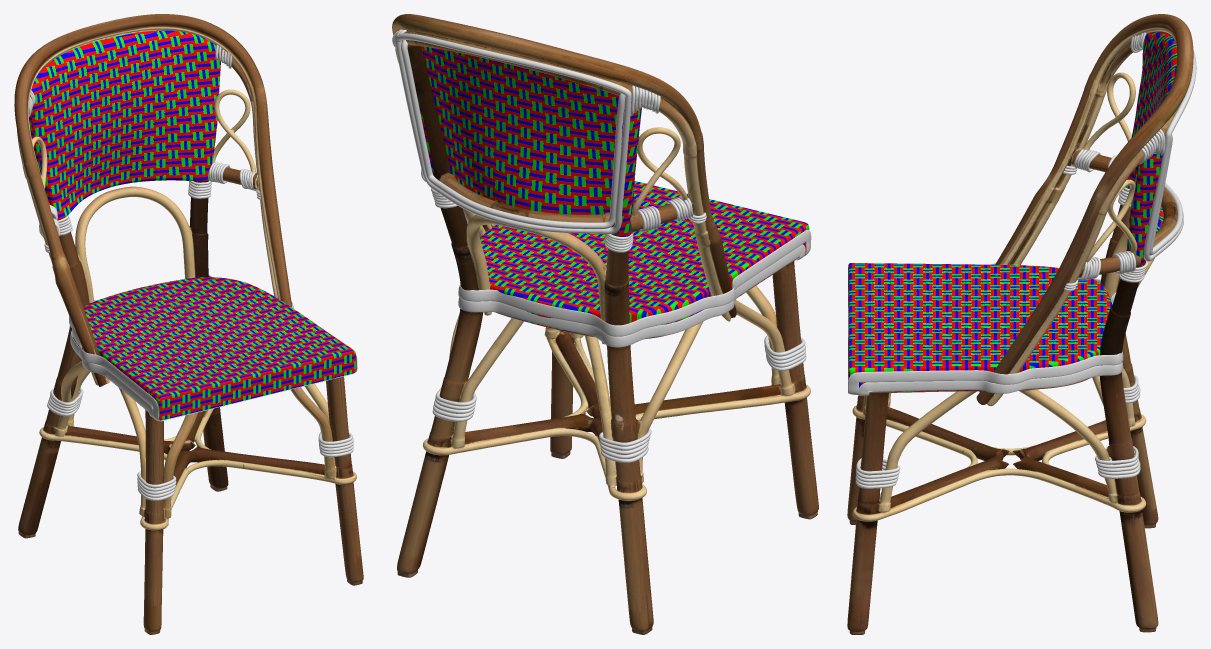
File: ogive-natte.glb
3 renders of one model, left to right at view 1: azimuth 30°, elevation 25°; view 2: azimuth 150°, elevation 25°; view 3: azimuth 270°, elevation 25°, orthographic. The views are drawn at different scales.
Visible parts, largest first — view 1: mesh_tressage, mesh_structure, mesh_laniere; view 2: mesh_structure, mesh_tressage, mesh_laniere; view 3: mesh_structure, mesh_tressage, mesh_laniere.
Boxes of the visible parts, x1,y1,x2,y2 form: mesh_tressage: [29, 30, 355, 420]; mesh_structure: [14, 14, 363, 634]; mesh_laniere: [14, 44, 357, 500]; mesh_structure: [392, 14, 818, 634]; mesh_tressage: [416, 46, 809, 334]; mesh_laniere: [392, 29, 811, 462]; mesh_structure: [847, 14, 1193, 634]; mesh_tressage: [848, 32, 1177, 391]; mesh_laniere: [848, 32, 1196, 488].
Size of the model in its own units: 0.481 by 0.9003 by 0.5384.
2 materials, 2 textured.
